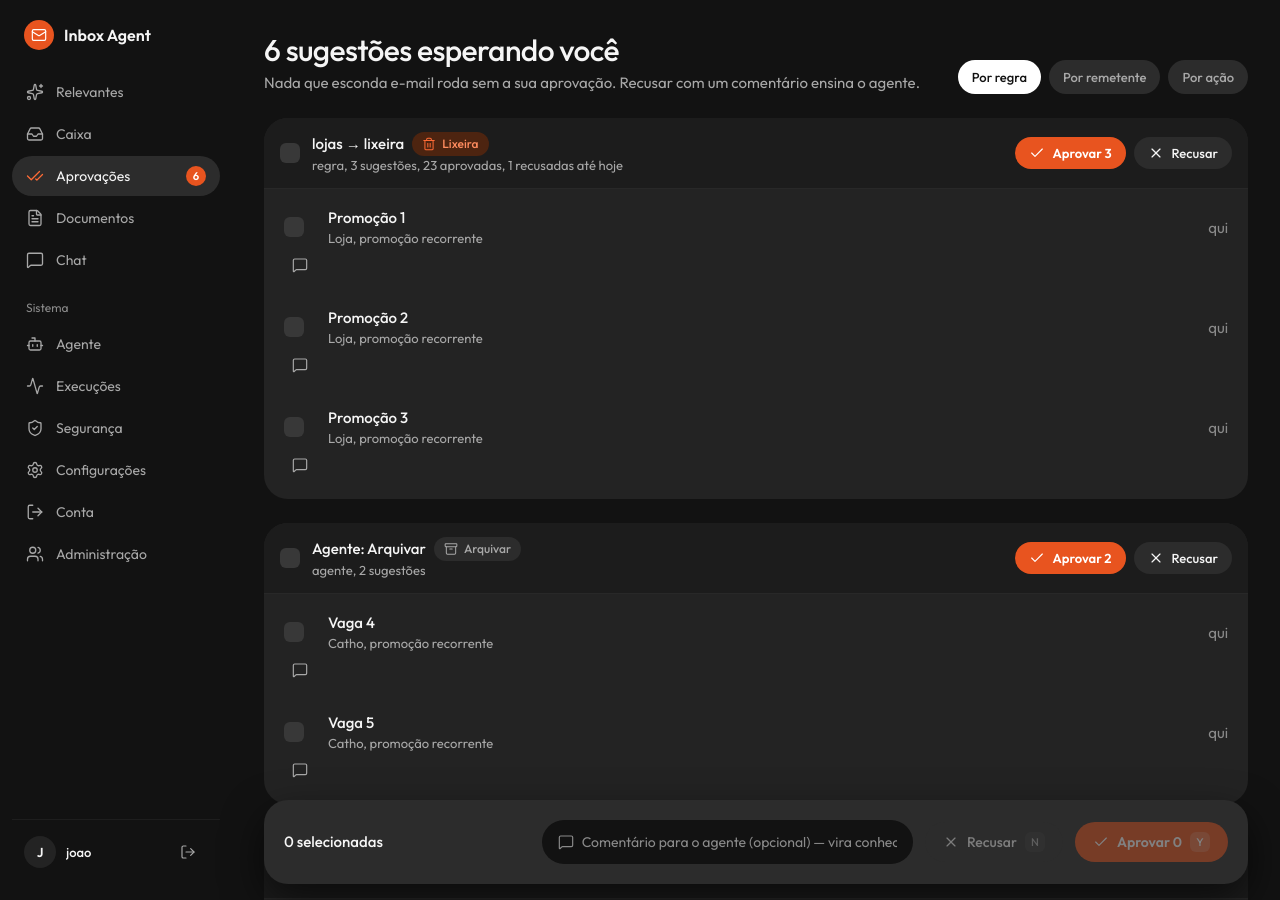
approve_group_sends_ids_and_omits_empty_comment_after_the_undo_window
Later steps or results of the test are not shown.
Click the checkbox that starts with "lojas → lixeira": (452, 153) [280,132,623,174]
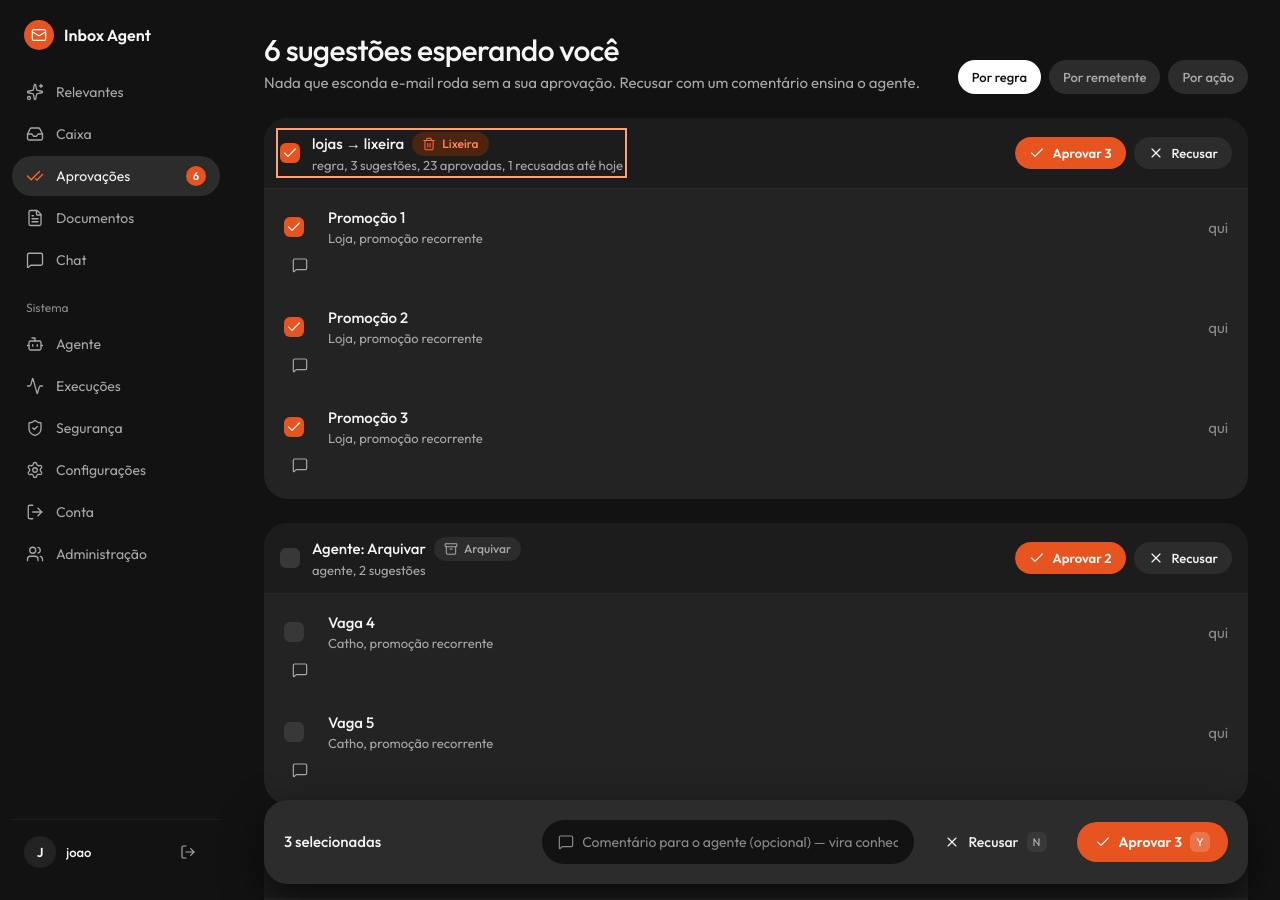
Result: the text "3 selecionadas" is shown at [284,832,381,851]
